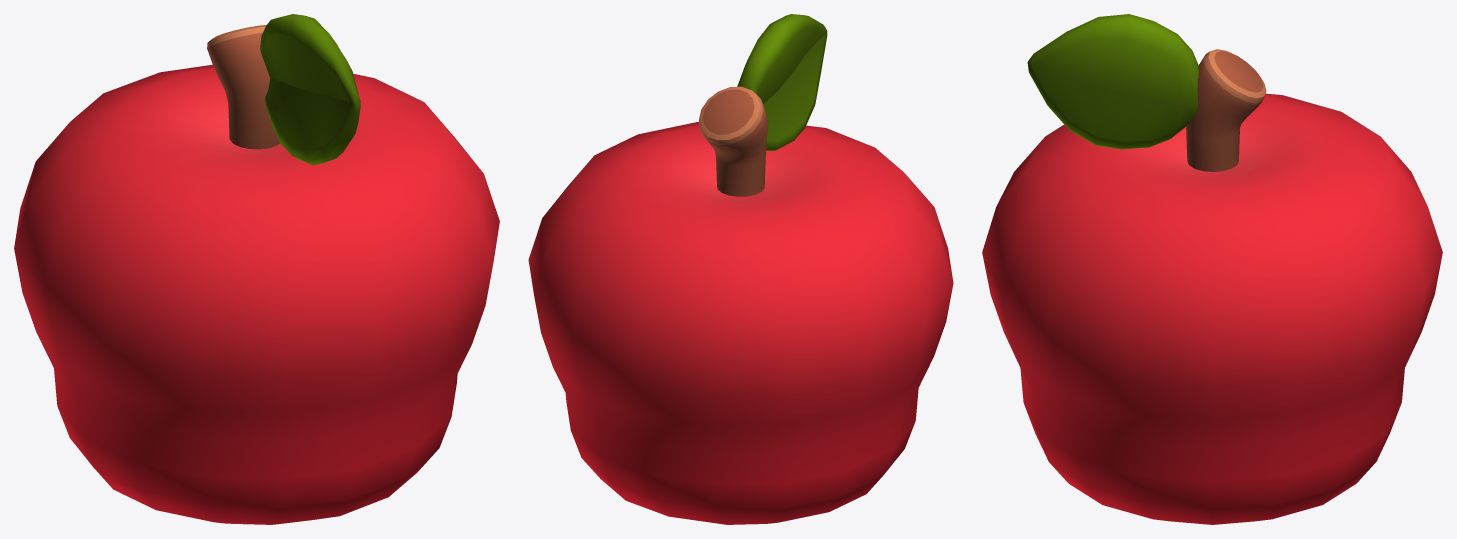
Rendered from Apple_V3_00.fbx.
3 renders of one model, left to right at view 1: azimuth 30°, elevation 25°; view 2: azimuth 150°, elevation 25°; view 3: azimuth 270°, elevation 25°, orthographic. The views are drawn at different scales.
Parts seen in each view (by area): view 1: Apple_V3_00; view 2: Apple_V3_00; view 3: Apple_V3_00.
Part boxes in pixels (x1=…): Apple_V3_00: x1=14, y1=14, x2=499, y2=524; Apple_V3_00: x1=528, y1=14, x2=953, y2=524; Apple_V3_00: x1=982, y1=14, x2=1442, y2=524.
Bounding box in the file's own units: 31.14 × 34.94 × 31.17.
